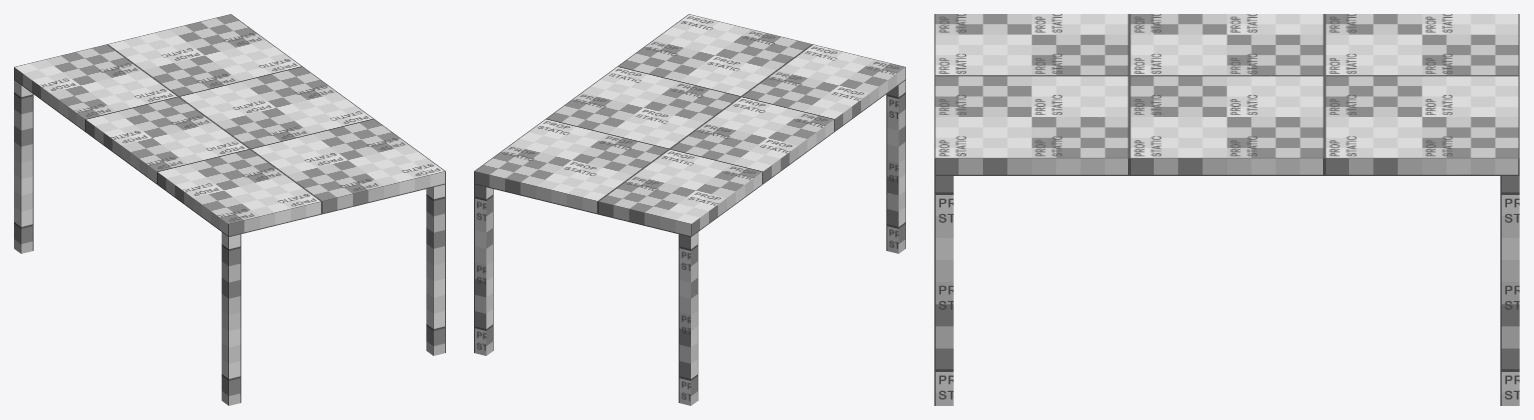
Rendered from JMB_StandingTable.fbx.
3 renders of one model, left to right at view 1: azimuth 30°, elevation 25°; view 2: azimuth 150°, elevation 25°; view 3: azimuth 270°, elevation 25°, orthographic. The views are drawn at different scales.
Parts seen in each view (by area): view 1: Desk_Top, Leg__1_, Leg, Leg__3_; view 2: Desk_Top, Leg__3_, Leg__2_, Leg__1_; view 3: Desk_Top, Leg, Leg__2_.
Boxes of the visible parts, x1=… form: Desk_Top: x1=14, y1=14, x2=445, y2=236; Leg__1_: x1=221, y1=232, x2=241, y2=405; Leg: x1=426, y1=184, x2=445, y2=355; Leg__3_: x1=14, y1=80, x2=33, y2=253; Desk_Top: x1=474, y1=14, x2=905, y2=236; Leg__3_: x1=678, y1=232, x2=698, y2=405; Leg__2_: x1=474, y1=184, x2=493, y2=355; Leg__1_: x1=886, y1=80, x2=905, y2=253; Desk_Top: x1=934, y1=14, x2=1519, y2=175; Leg: x1=934, y1=176, x2=953, y2=405; Leg__2_: x1=1500, y1=176, x2=1519, y2=405.
Bounding box in the file's own units: 175 × 140 × 300.
